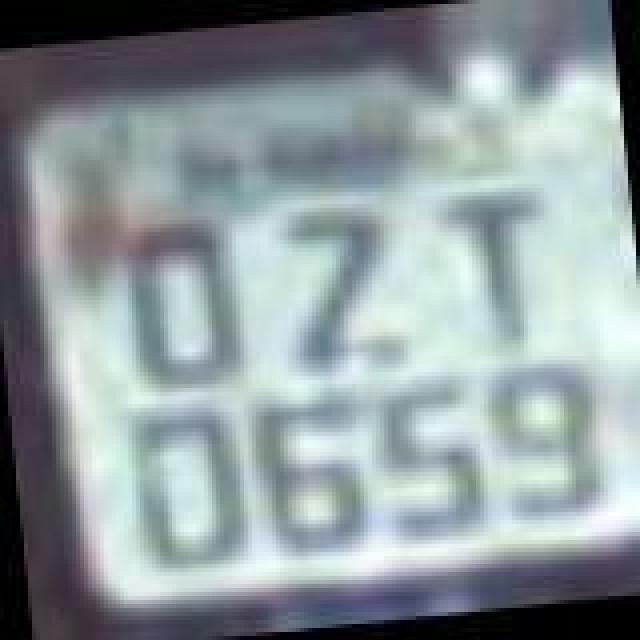5: (360, 364, 488, 548)
6: (242, 384, 382, 568)
9: (470, 342, 626, 522)
O: (112, 202, 248, 390), (122, 398, 254, 578)
T: (432, 174, 568, 354)
Z: (278, 192, 410, 376)
